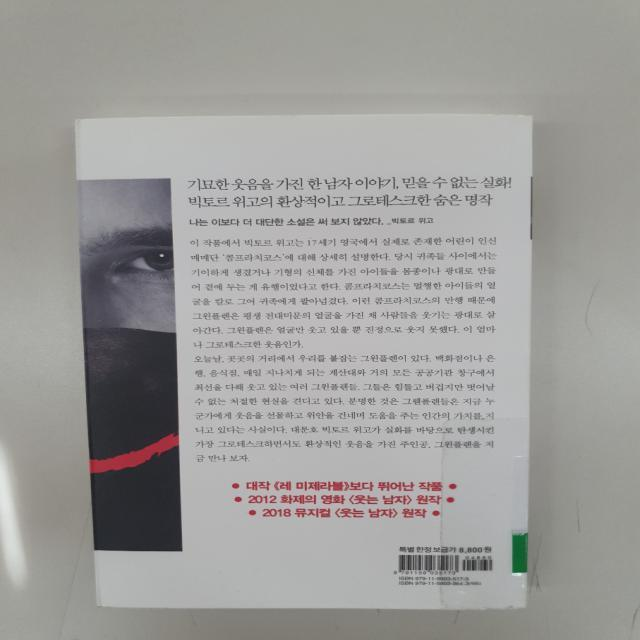Wornout: (447, 109, 538, 123)
